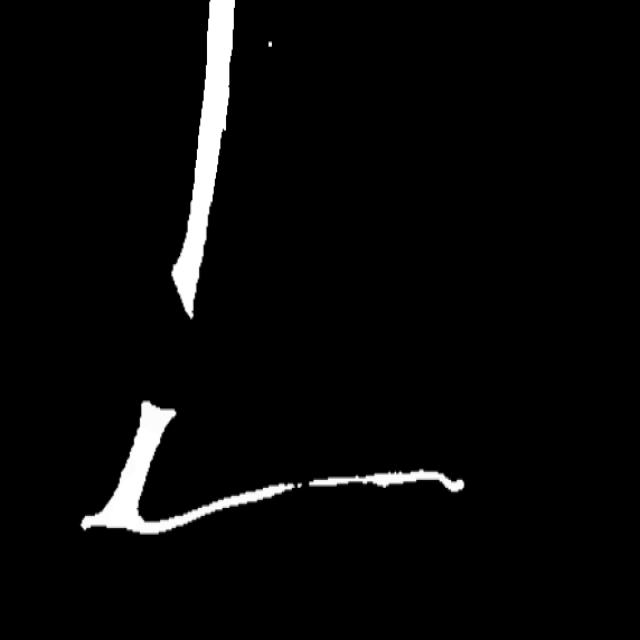inf: (288, 475, 316, 497)
